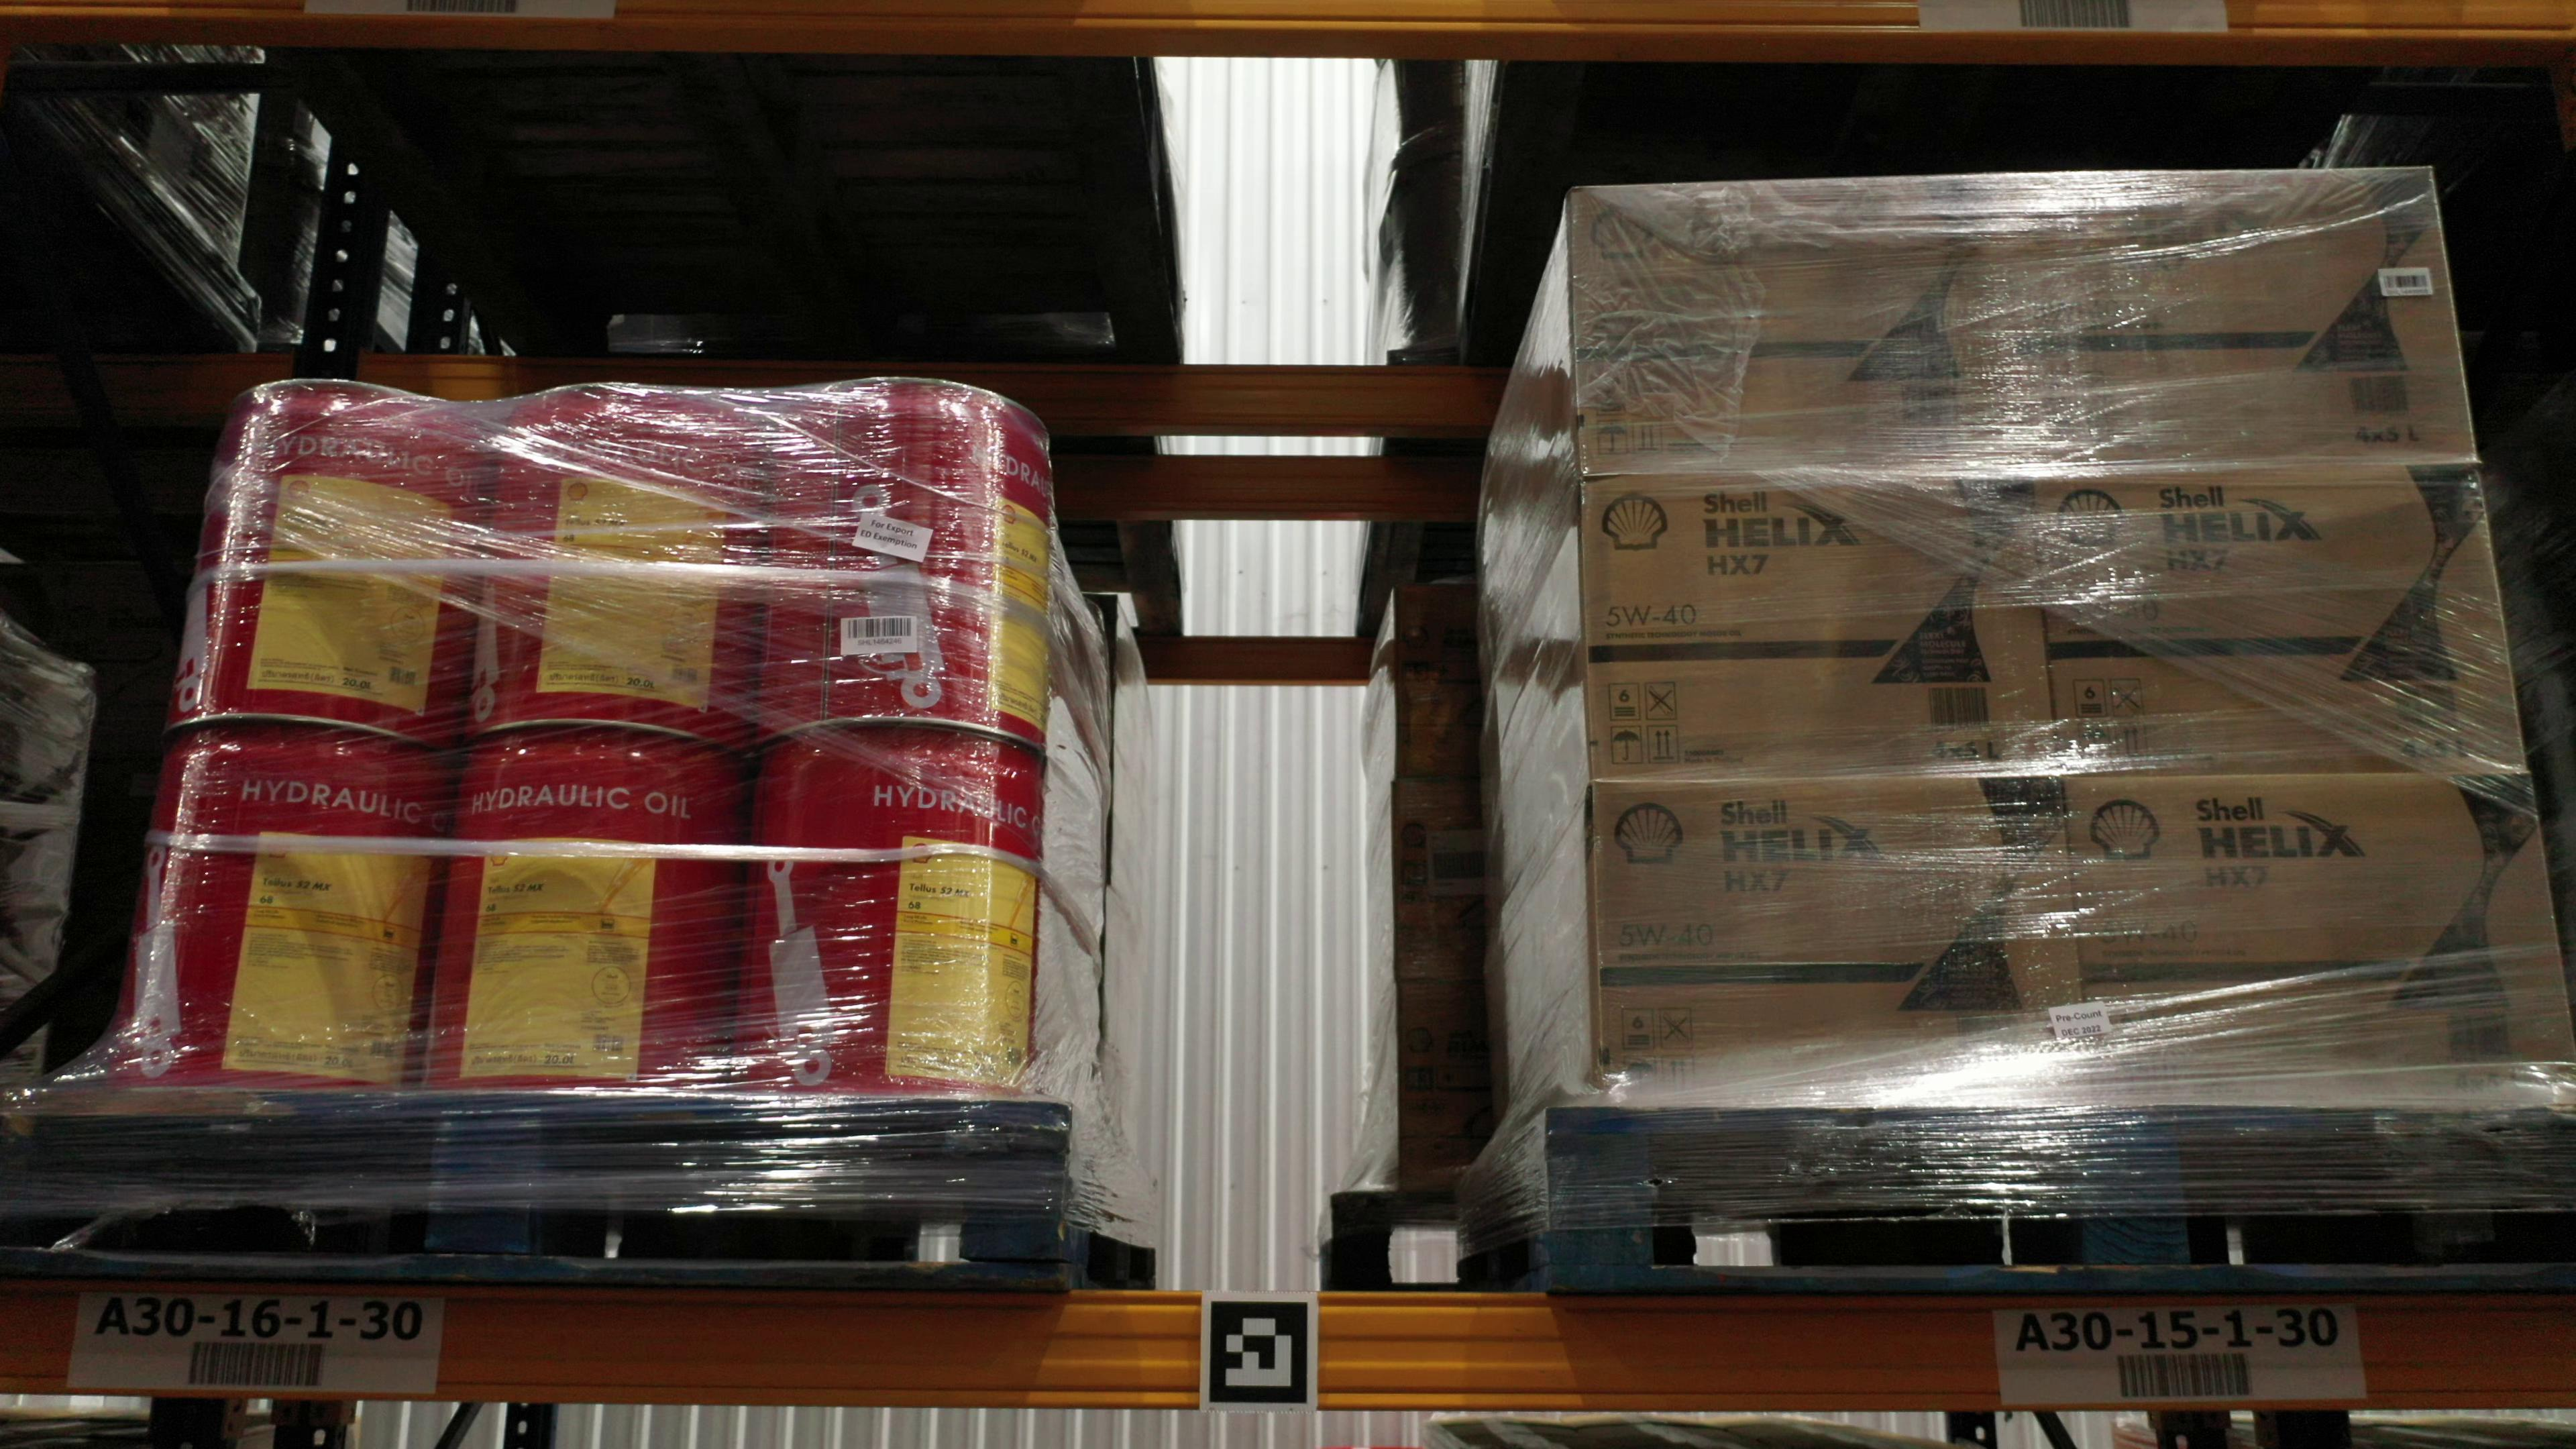-: (2066, 768, 2576, 1109), (1587, 773, 2091, 1108), (2036, 458, 2526, 773), (1582, 469, 2065, 778), (2013, 170, 2473, 474), (1573, 179, 2036, 474), (111, 731, 448, 1093), (412, 736, 740, 1100), (172, 382, 499, 745), (734, 725, 1042, 1092), (467, 387, 764, 745), (759, 382, 1051, 745)
